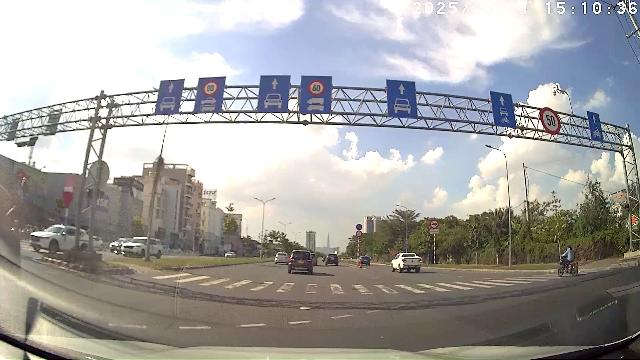127-toc-do-toi-da-50: (540, 107, 561, 134)
127-toc-do-toi-da-60: (308, 79, 326, 96)
127-toc-do-toi-da-80: (202, 80, 219, 96)
